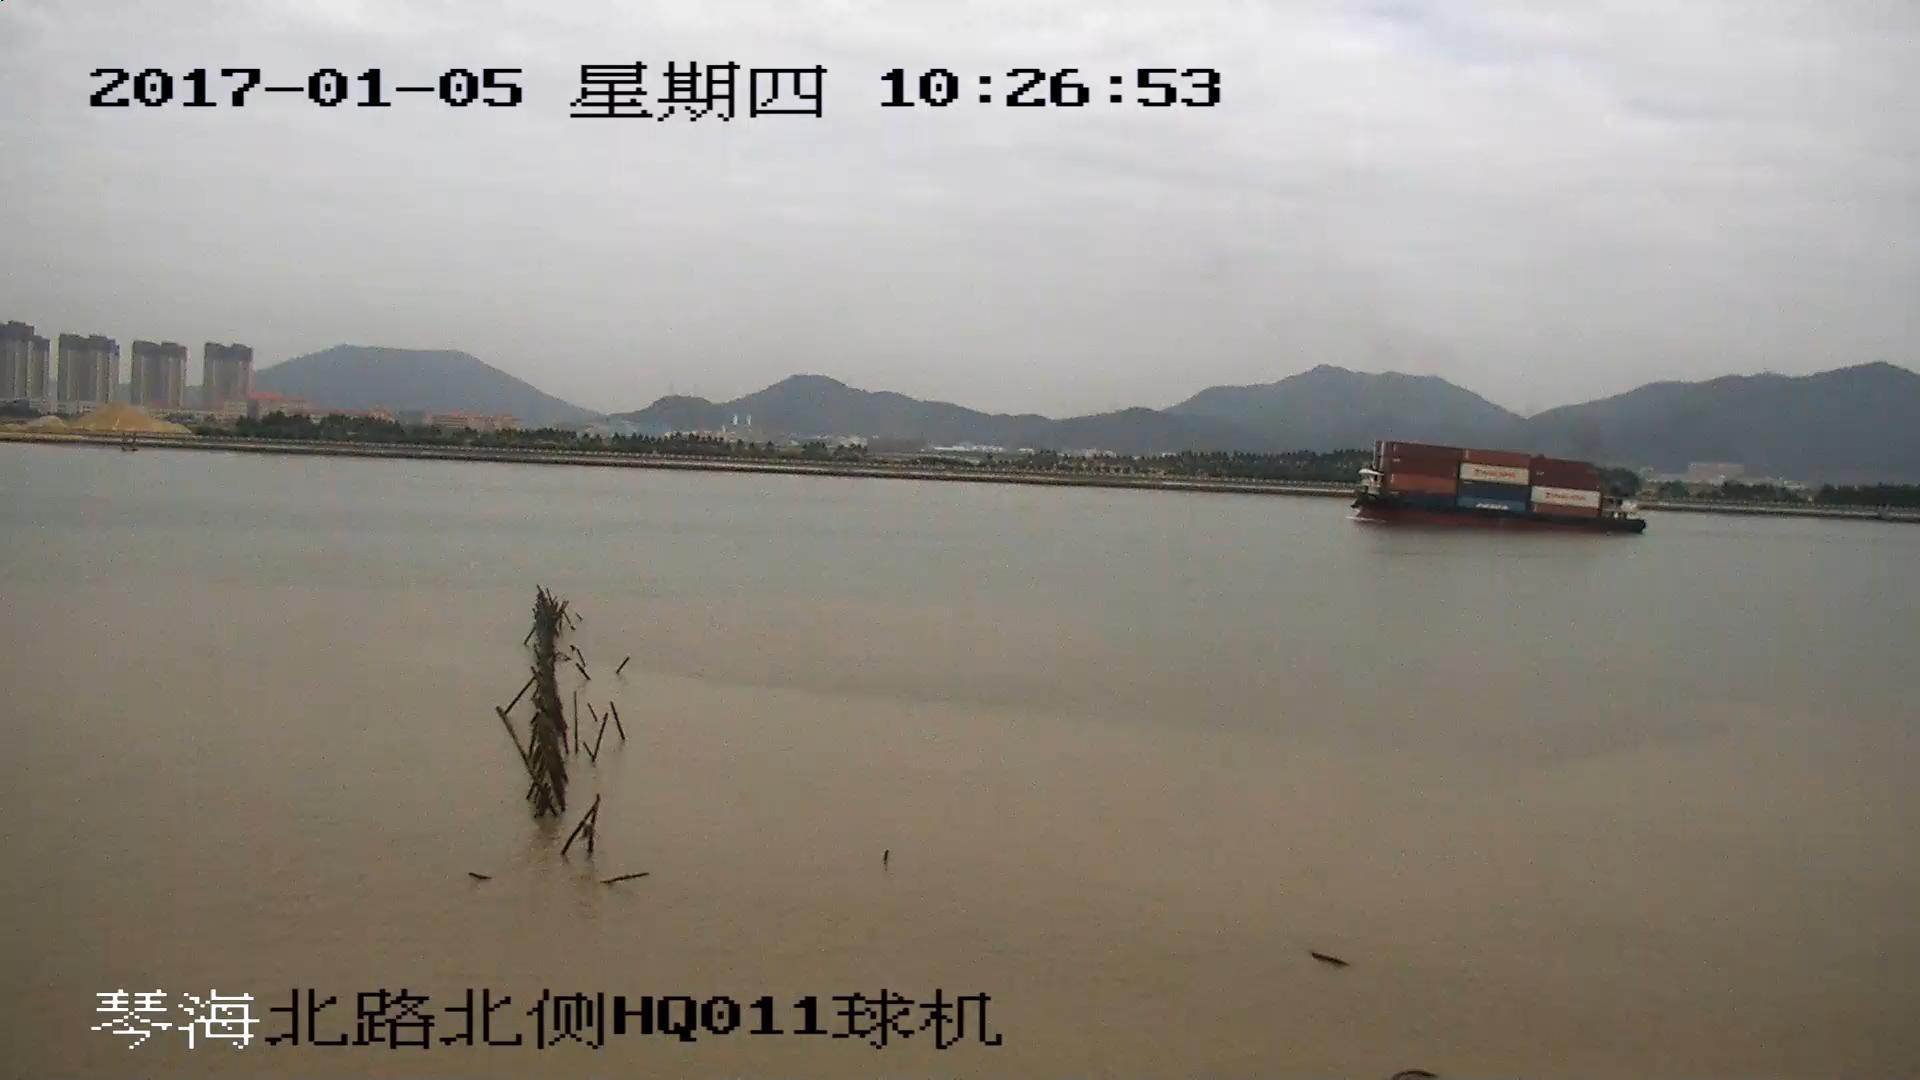Ship: (1350, 443, 1647, 537)
